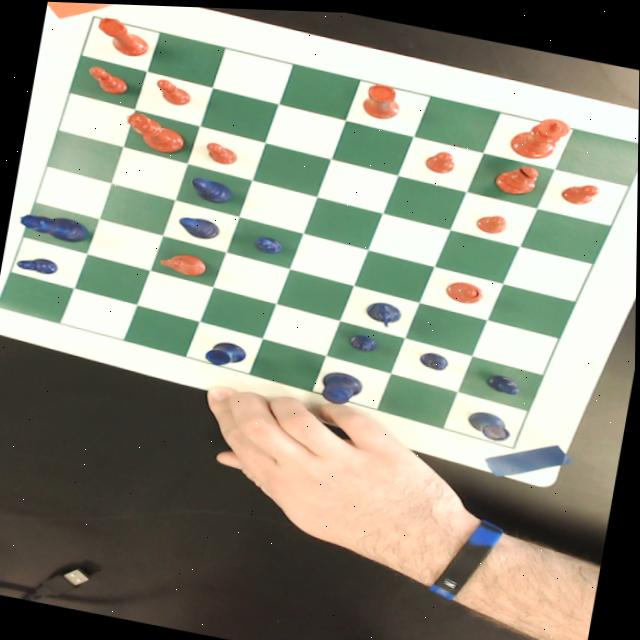B: (188, 175, 235, 205), (176, 213, 222, 240)
K: (318, 366, 365, 406)
N: (360, 295, 406, 327)
P: (16, 253, 59, 276), (484, 369, 520, 393), (417, 347, 451, 370), (252, 232, 286, 254), (347, 329, 381, 351)
Q: (17, 208, 90, 245)
R: (464, 405, 515, 441), (201, 335, 250, 370)
b: (492, 155, 542, 195), (443, 274, 486, 304)
k: (506, 107, 570, 161)
n: (157, 248, 209, 278)
p: (83, 63, 131, 97), (559, 174, 601, 204), (152, 76, 192, 106), (203, 138, 238, 166), (473, 208, 510, 233), (423, 145, 456, 172)
q: (120, 110, 189, 156)
r: (92, 15, 151, 58), (359, 78, 404, 120)
